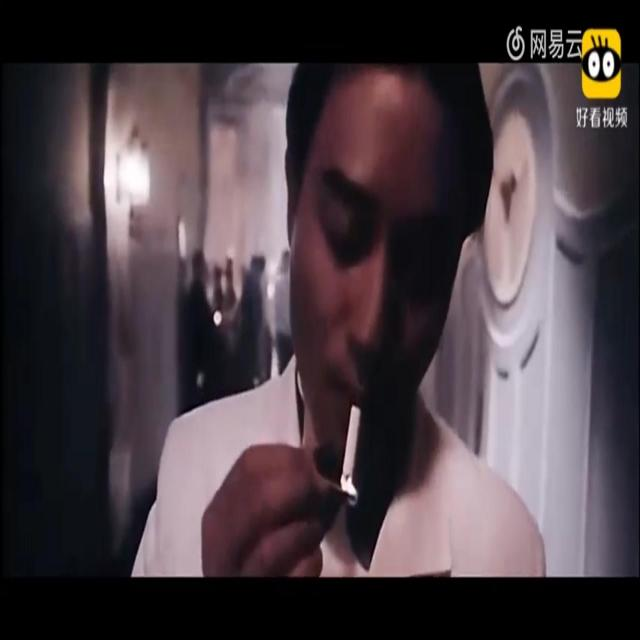Сигарета: (342, 402, 363, 492)
Тело: (142, 56, 538, 572)
